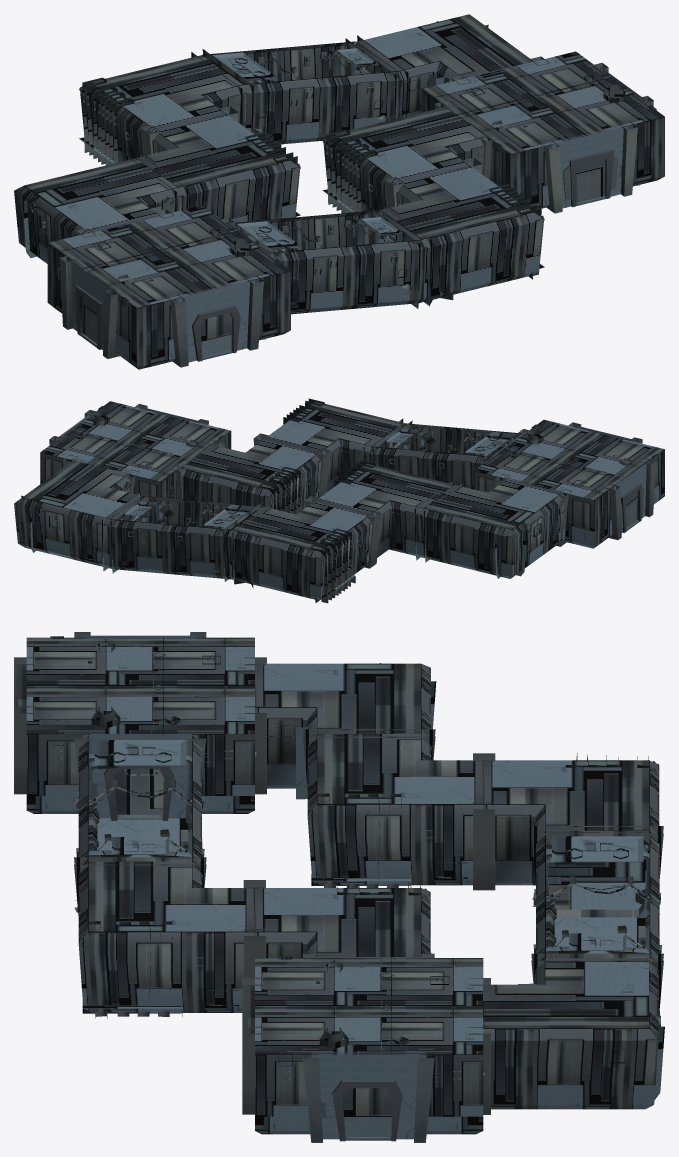
Rendered from Combined_Mesh_root_scene__0_a34a996a__zombies2_diffuse_03_64bb9bc2_c1f257.obj.
3 renders of one model, top to bottom at view 1: azimuth 30°, elevation 25°; view 2: azimuth 150°, elevation 25°; view 3: azimuth 270°, elevation 25°, orthographic. The views are drawn at different scales.
Size of the model in its own units: 81.89 by 12.64 by 57.04.
170 materials, 170 textured.
